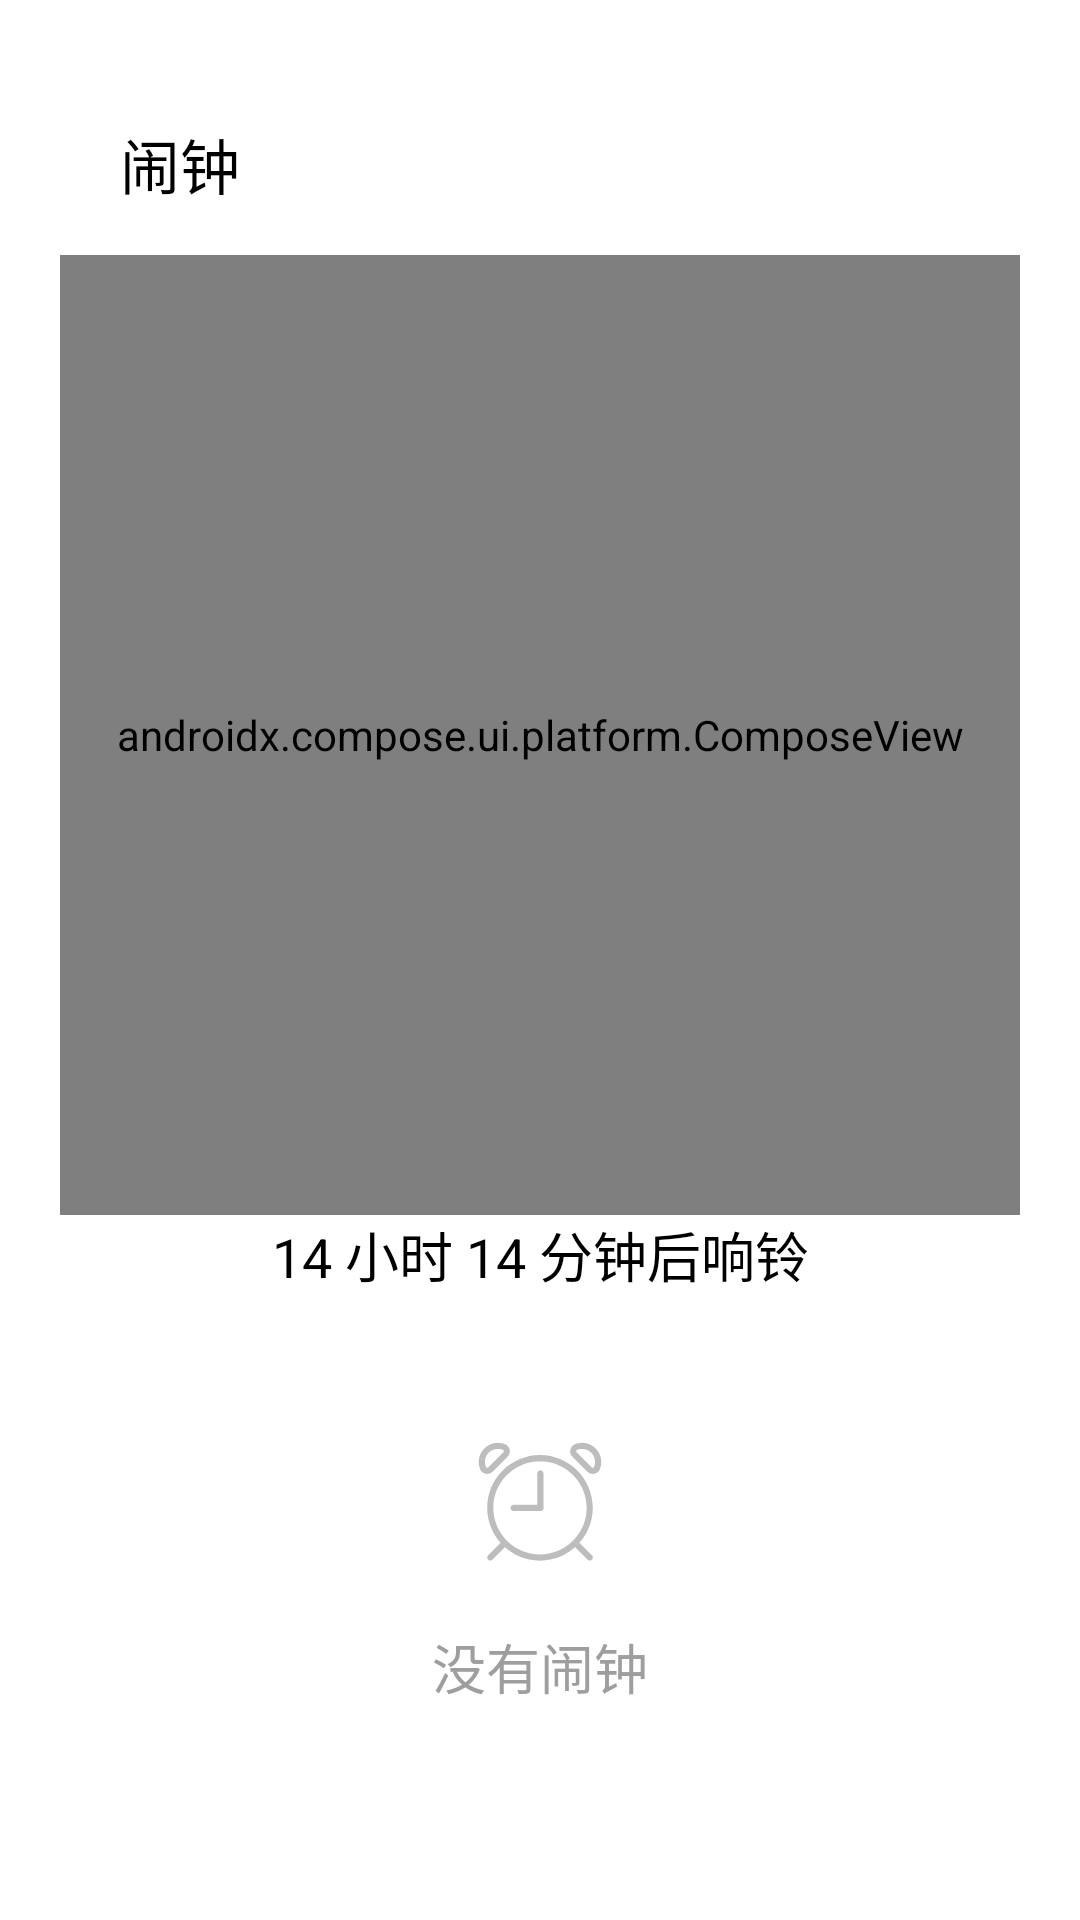

Point at icon controls on the screen. Image size 1080×1920, points as (x=x, y=y).
alarm: (x=540, y=1502)
